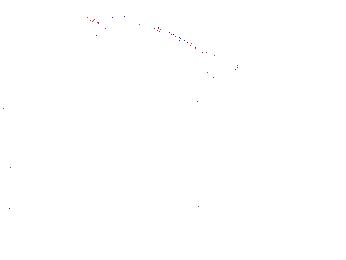glassfish: (78, 4, 228, 72)
